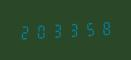eight: (98, 18, 113, 37)
five: (82, 19, 97, 38)
three: (50, 20, 65, 40), (66, 19, 81, 39)
two: (17, 22, 32, 41)
zero: (33, 21, 48, 40)
